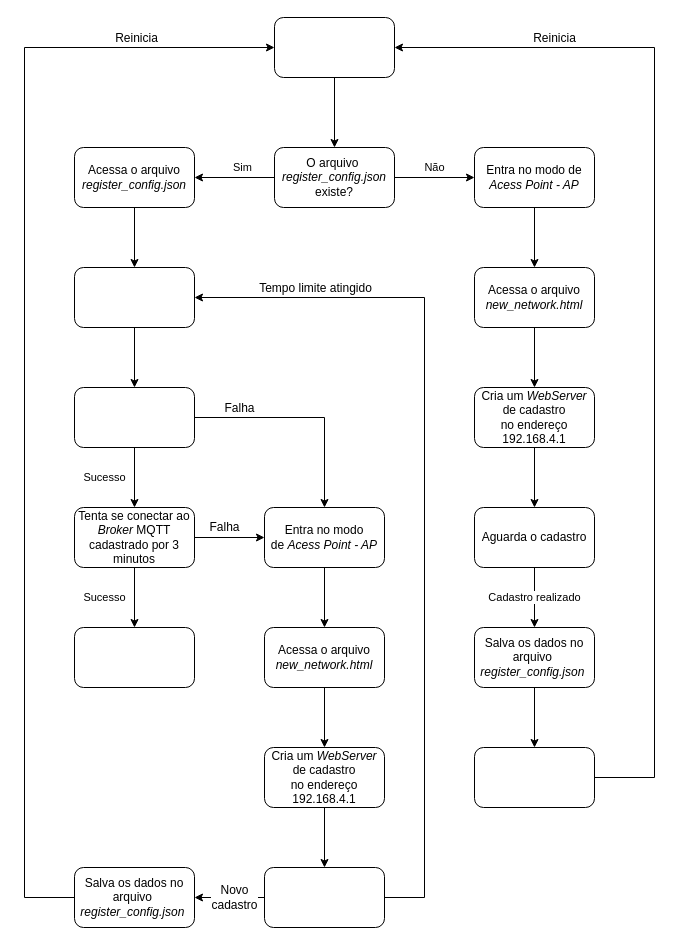
Image size: 680x945. Some labels were removed from this diagram. Here are the shapes that lost their labels. From the top down, the box of each, then its label:
(274, 16, 394, 78): Inicialização
(74, 266, 194, 328): Entra no modo Station - STA
(74, 386, 194, 448): Tenta se conectar à rede WI-FI cadastrada por 3 minutos
(74, 626, 194, 688): Entra no modo de operação normal, com funções que checam as conexões
(474, 746, 594, 808): Mostra a página de confirmação ( confirm.html )
(264, 866, 384, 928): Aguarda o cadastro por 5 minutos
